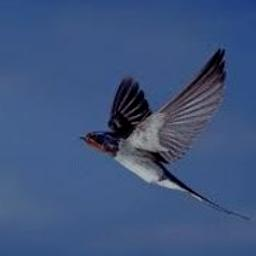Swallow: (81, 47, 250, 220)
